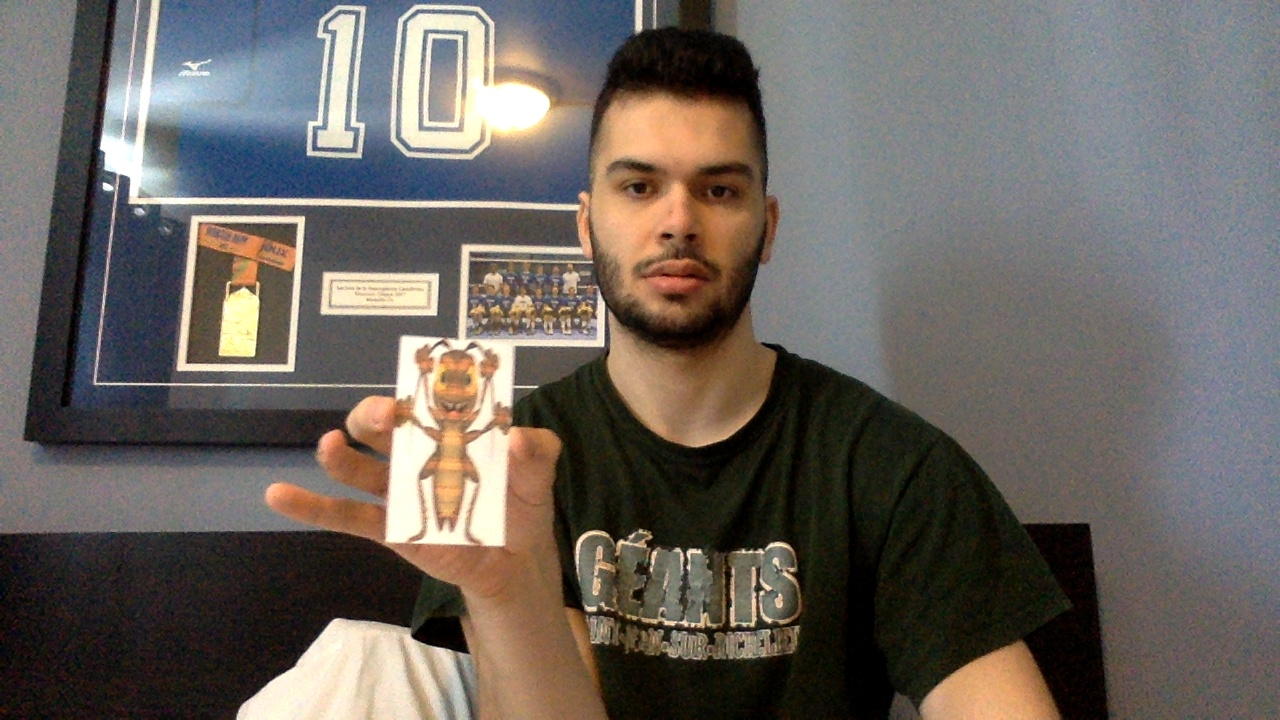Angry: (390, 336, 514, 551)
